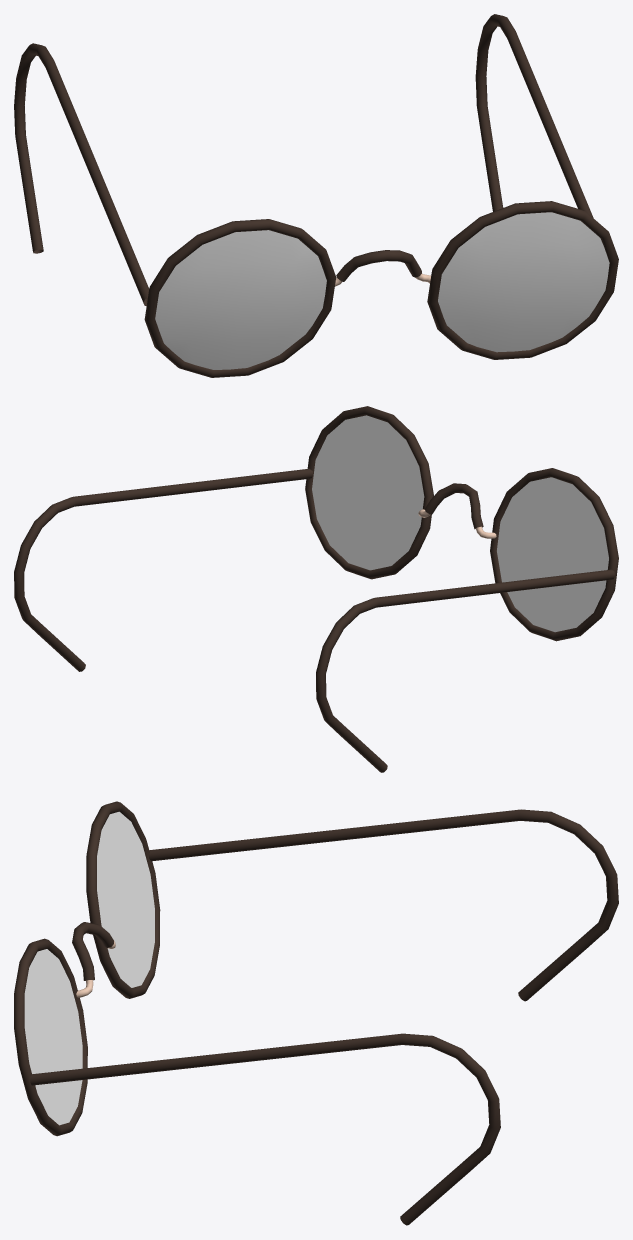
The model's file is gafas.glb.
The picture shows the model from 3 angles, top to bottom: view 1: azimuth 30°, elevation 25°; view 2: azimuth 150°, elevation 25°; view 3: azimuth 270°, elevation 25°; orthographic projection. The views are drawn at different scales.
Visible parts, largest first — view 1: Object_6; view 2: Object_6; view 3: Object_6.
Boxes of the visible parts, bbox=[...] form: Object_6: bbox=[14, 14, 618, 377]; Object_6: bbox=[14, 406, 618, 772]; Object_6: bbox=[14, 801, 618, 1225].
Size of the model in its own units: 0.3228 by 0.133 by 0.3267.
